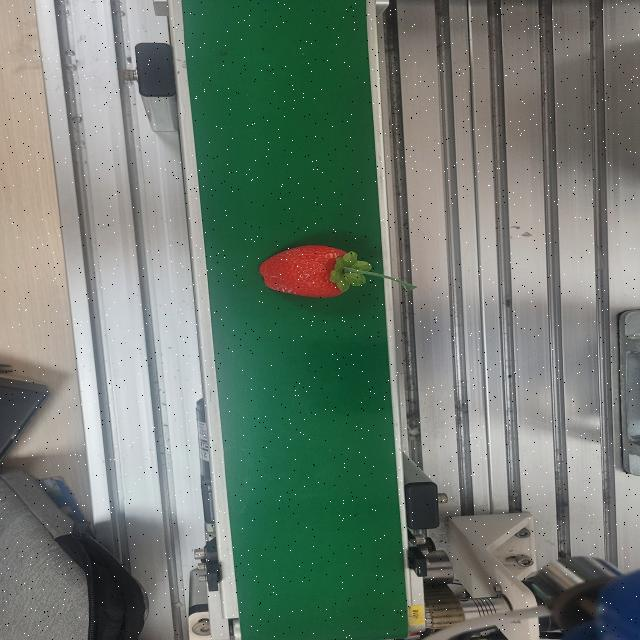Small Ripe Strawberry: (256, 242, 416, 298)
conveyor: (174, 0, 413, 640)
